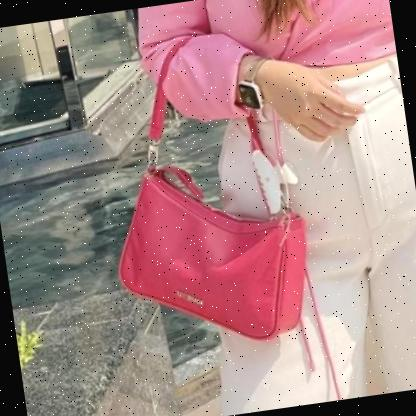bag: (82, 20, 324, 361)
